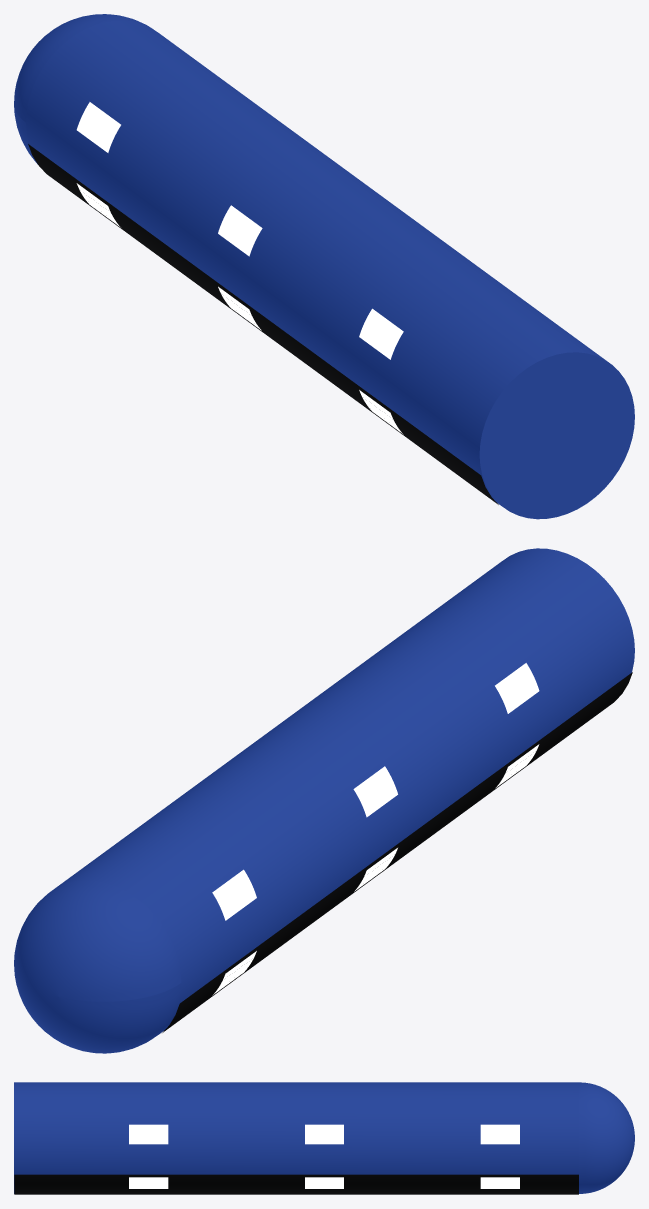
File: whitted.gltf
The picture shows the model from 3 angles, top to bottom: view 1: azimuth 30°, elevation 25°; view 2: azimuth 150°, elevation 25°; view 3: azimuth 270°, elevation 25°; orthographic projection. The views are drawn at different scales.
Visible parts, largest first — view 1: hull, tail, underside, nose, window-8, window-9, window-7; view 2: hull, nose, underside, window-9, window-7, window-8; view 3: hull, underside, nose, window-1, window-3, window-2, window-4, window-6, window-5.
Part boxes in pixels (left/top/right/bottom): hull: left=26, top=20, right=608, bottom=505; tail: left=479, top=352, right=634, bottom=519; underside: left=28, top=144, right=498, bottom=504; nose: left=14, top=14, right=149, bottom=164; window-8: left=218, top=205, right=262, bottom=256; window-9: left=359, top=308, right=403, bottom=359; window-7: left=76, top=102, right=120, bottom=152; hull: left=52, top=548, right=634, bottom=1033; nose: left=14, top=880, right=181, bottom=1053; underside: left=162, top=672, right=632, bottom=1032; window-9: left=495, top=663, right=539, bottom=713; window-7: left=212, top=869, right=256, bottom=920; window-8: left=353, top=766, right=397, bottom=817; hull: left=14, top=1082, right=578, bottom=1193; underside: left=14, top=1174, right=578, bottom=1194; nose: left=579, top=1082, right=634, bottom=1193; window-1: left=480, top=1124, right=519, bottom=1144; window-3: left=129, top=1124, right=168, bottom=1144; window-2: left=305, top=1124, right=343, bottom=1144; window-4: left=480, top=1177, right=519, bottom=1188; window-6: left=129, top=1177, right=168, bottom=1188; window-5: left=305, top=1177, right=343, bottom=1188.
Bounding box in the file's own units: 5.4 × 5.43 × 30.
